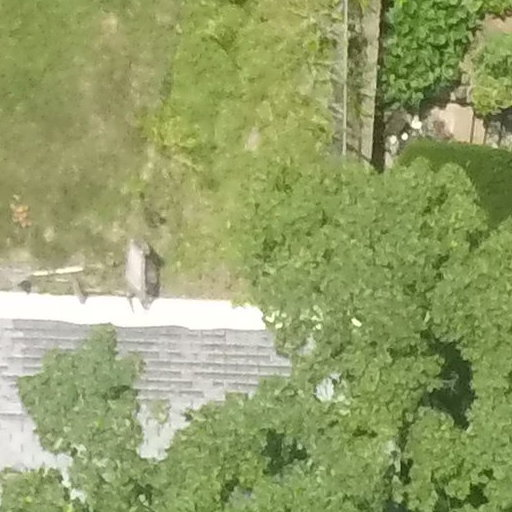container: (388, 133, 398, 144), (402, 129, 410, 141)
